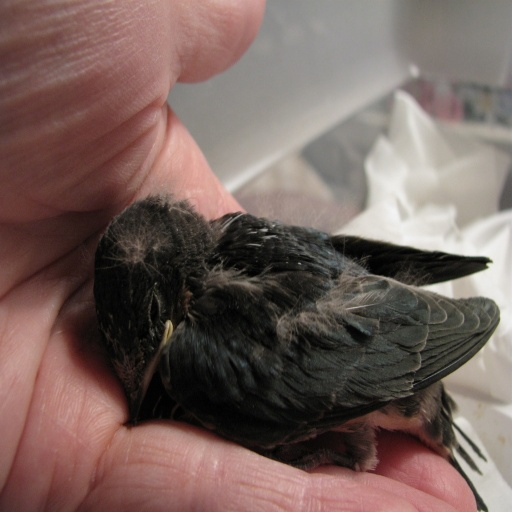hand: (0, 0, 479, 511)
